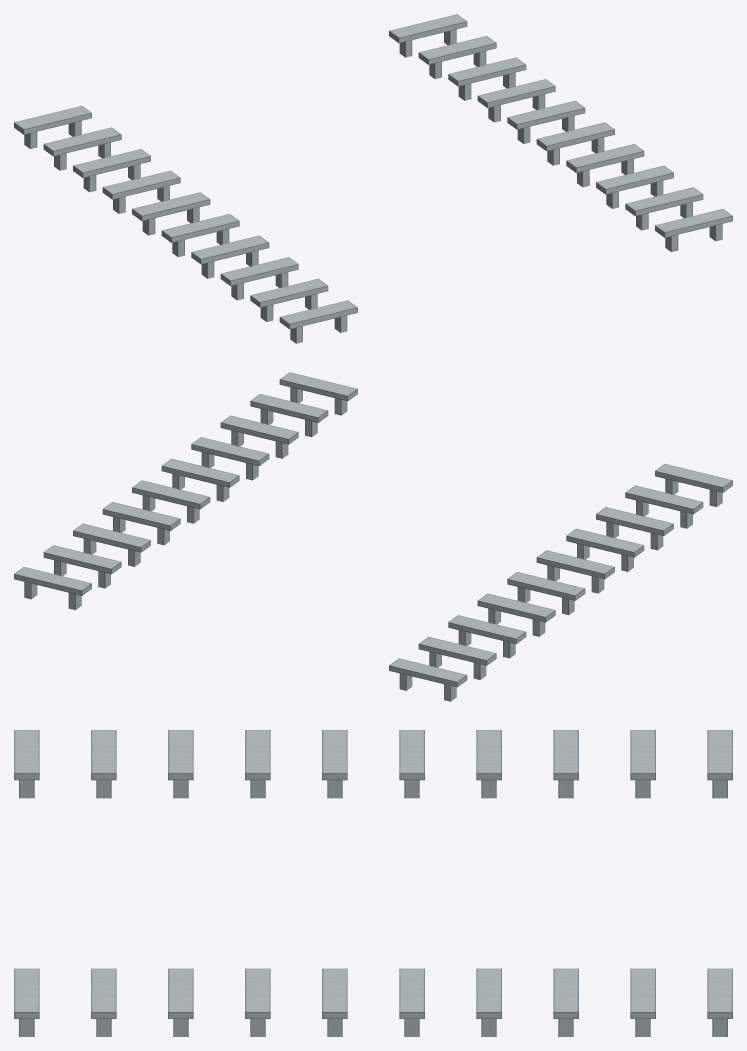
The model's file is Benches.fbx.
The picture shows the model from 3 angles, top to bottom: view 1: azimuth 30°, elevation 25°; view 2: azimuth 150°, elevation 25°; view 3: azimuth 270°, elevation 25°; orthographic projection. The views are drawn at different scales.
Visible parts, largest first — view 1: Benches; view 2: Benches; view 3: Benches.
Boxes of the visible parts, box(x1,y1,x2,y2) form: Benches: box(14, 14, 732, 343); Benches: box(14, 372, 732, 701); Benches: box(14, 730, 732, 1036).
Size of the model in its own units: 13 by 14 by 0.65.
Materials: 1 (1 with a texture image).
